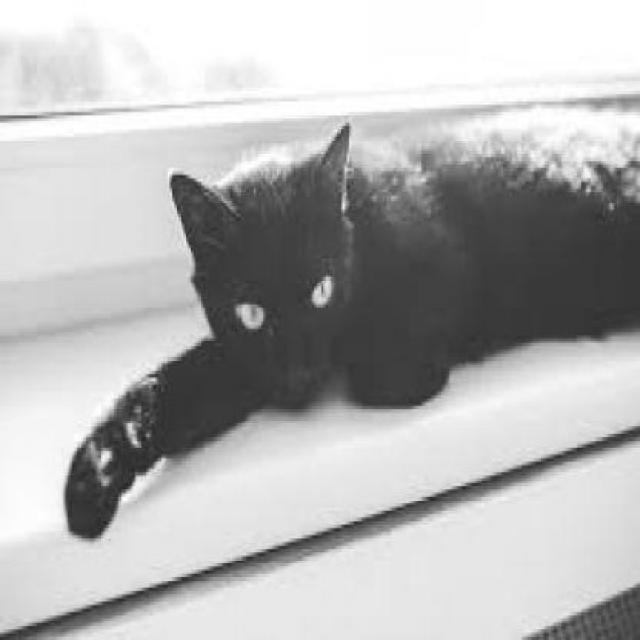animals: (60, 104, 638, 538)
